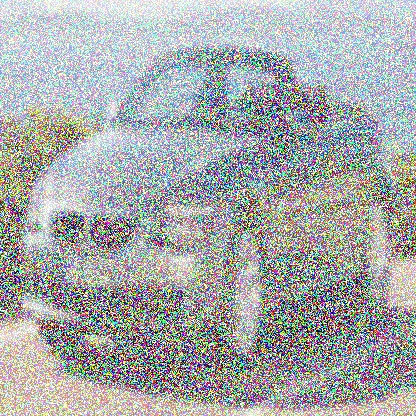Vehicle: (21, 52, 395, 367)
